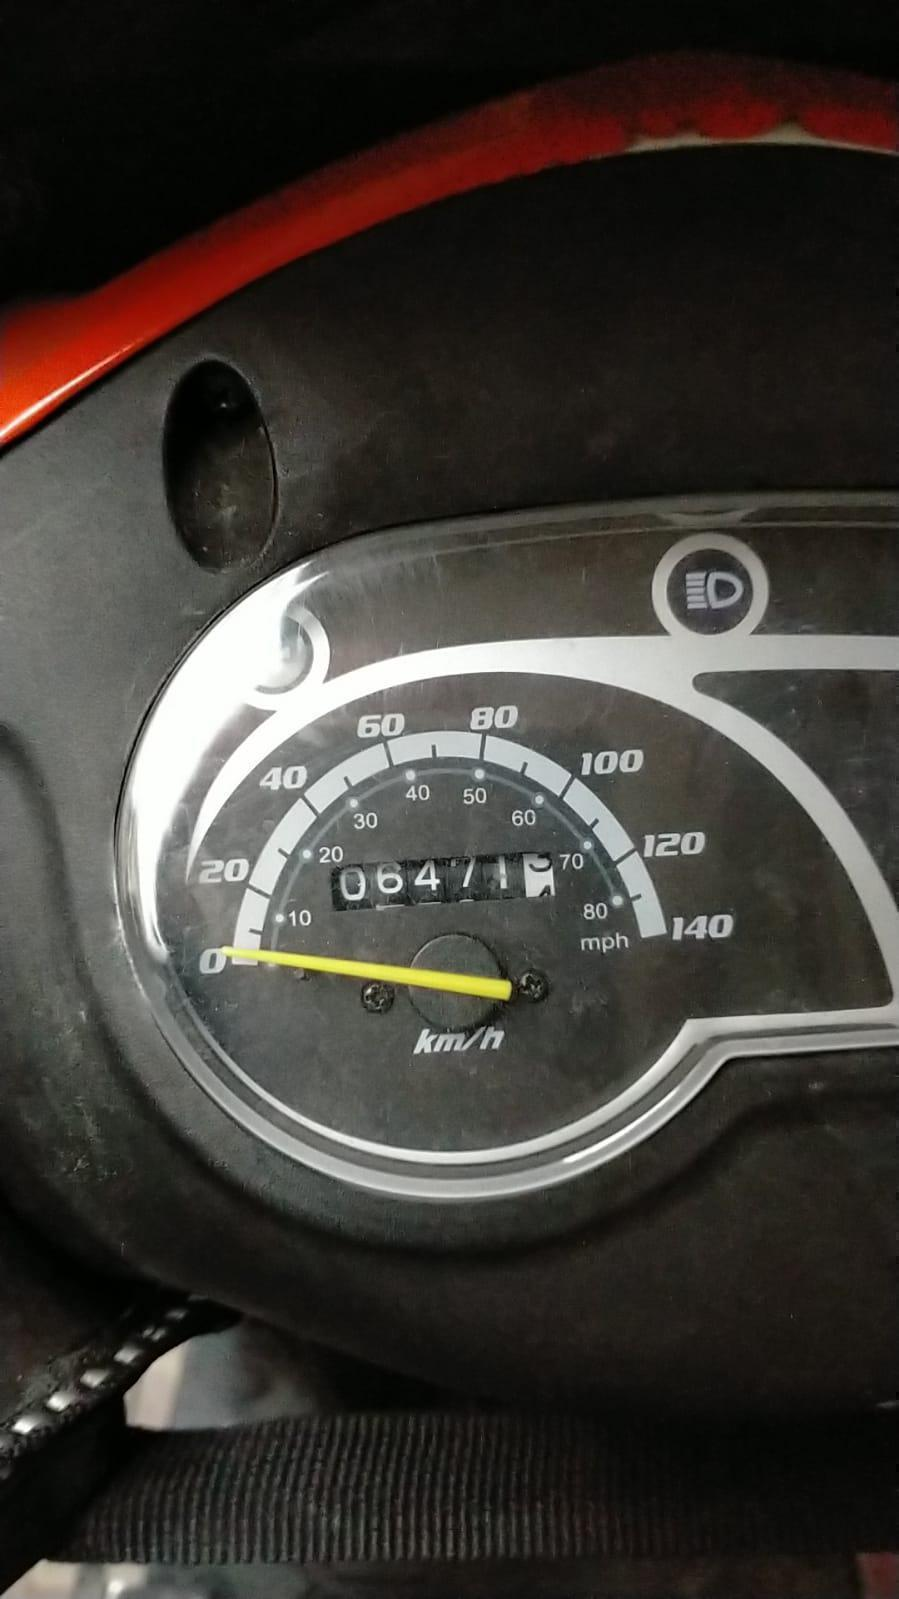0: (339, 864, 367, 901), (331, 845, 346, 862)
1: (493, 852, 512, 897)
3: (529, 848, 555, 877)
4: (413, 857, 440, 894)
6: (374, 858, 404, 896)
7: (449, 854, 483, 891)
odometer: (327, 851, 560, 919)
